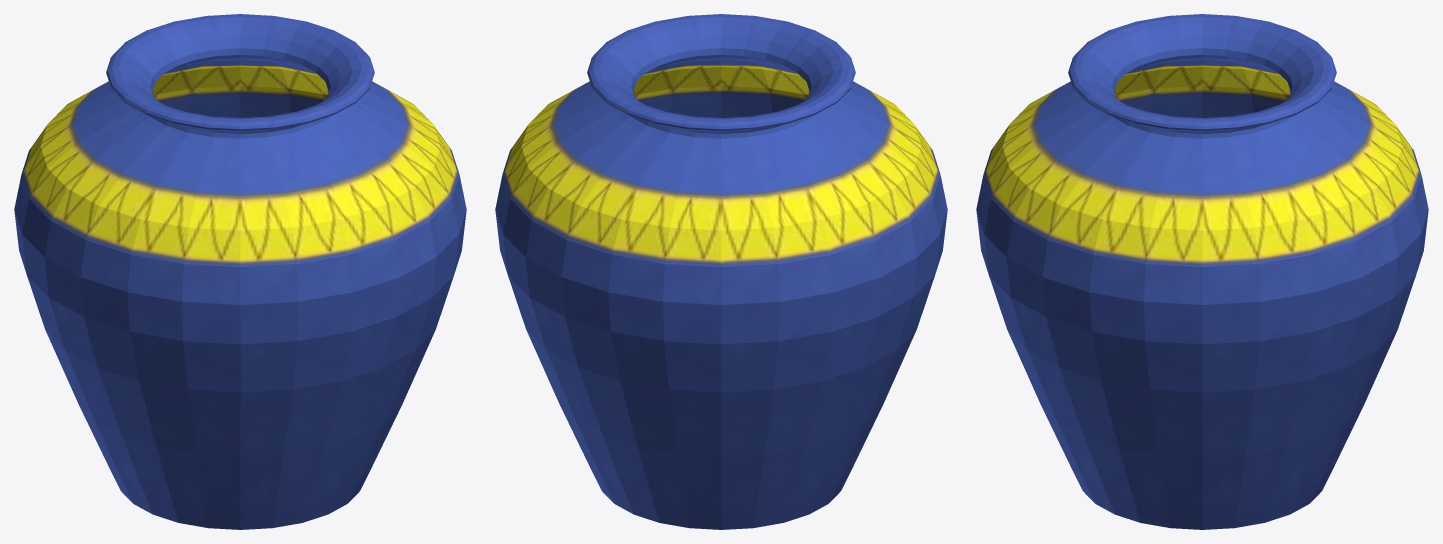
File: sh-scopia-jar.glb
The picture shows the model from 3 angles, left to right: view 1: azimuth 30°, elevation 25°; view 2: azimuth 150°, elevation 25°; view 3: azimuth 270°, elevation 25°; orthographic projection.
Parts seen in each view (by area): view 1: jar_Plane; view 2: jar_Plane; view 3: jar_Plane.
Boxes of the visible parts, x1,y1,x2,y2 form: jar_Plane: [14, 14, 466, 529]; jar_Plane: [495, 14, 947, 529]; jar_Plane: [976, 14, 1428, 529].
Size of the model in its own units: 1 by 1 by 1.
2 materials, 2 textured.
